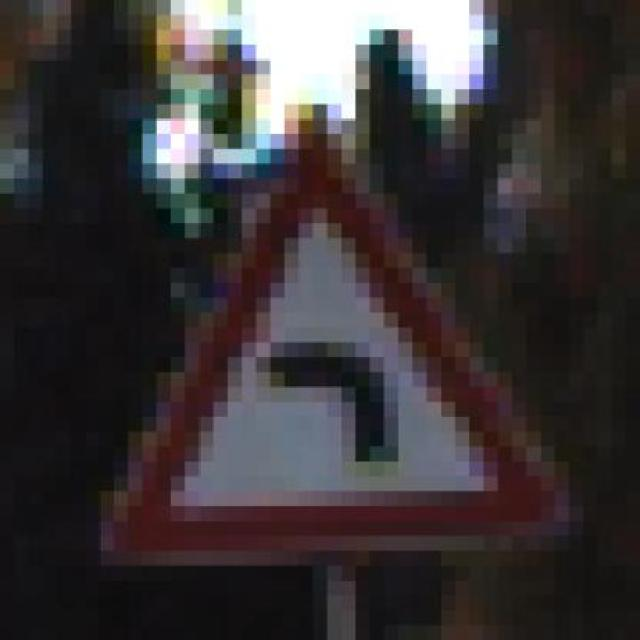Dangerous Left Curve Ahead: (71, 89, 569, 566)
